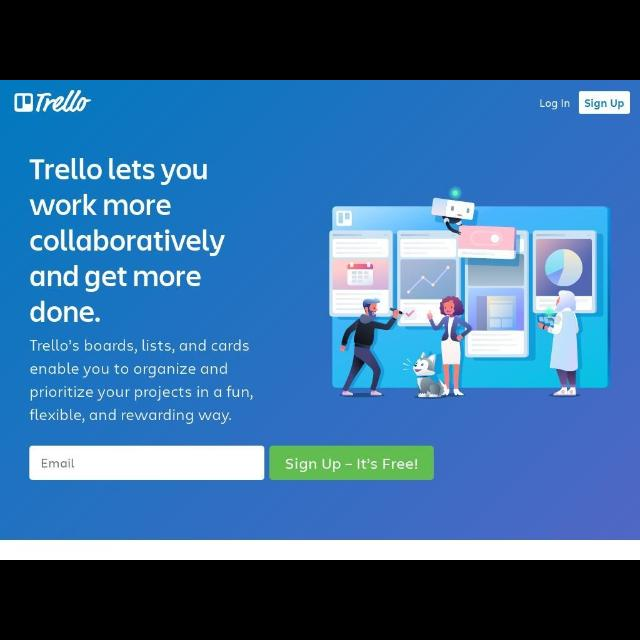image: (330, 186, 610, 398), (14, 88, 92, 115)
input: (29, 446, 264, 482)
text: (28, 157, 226, 323), (28, 338, 254, 424), (286, 456, 418, 472), (584, 98, 624, 110), (40, 458, 76, 470), (538, 98, 570, 110)
textbutton: (270, 447, 434, 481), (578, 90, 632, 114)
